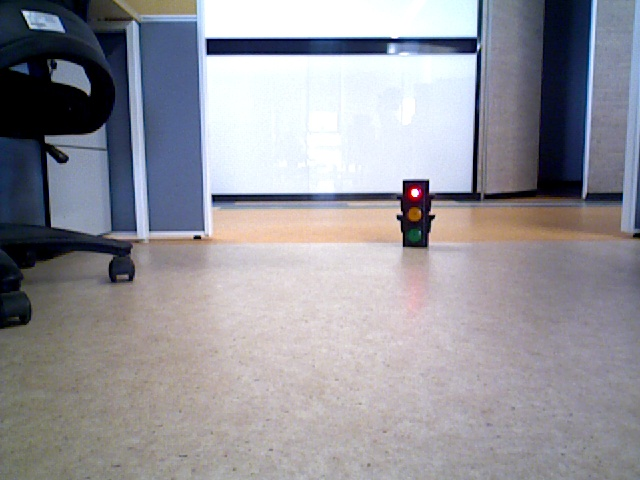red: (401, 183, 425, 243)
